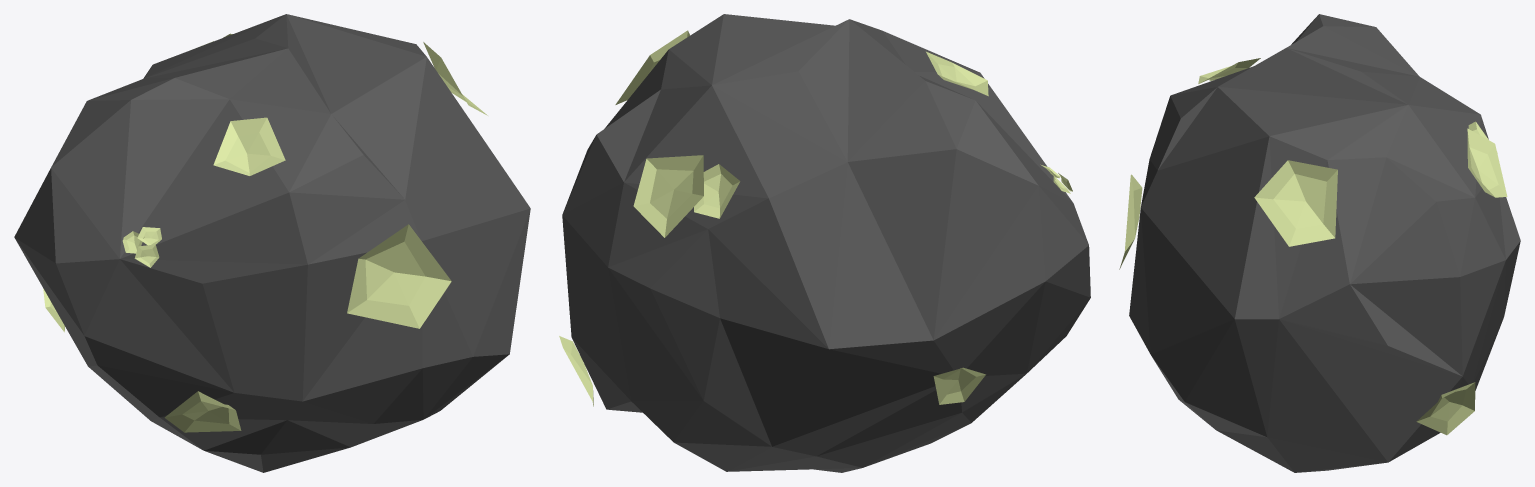
Rendered from SM_Buisson_Fleur.fbx.
3 renders of one model, left to right at view 1: azimuth 30°, elevation 25°; view 2: azimuth 150°, elevation 25°; view 3: azimuth 270°, elevation 25°, orthographic. The views are drawn at different scales.
Visible parts, largest first — view 1: SM_Buisson_Fleur; view 2: SM_Buisson_Fleur; view 3: SM_Buisson_Fleur.
Boxes of the visible parts, left/top/right/bottom form: SM_Buisson_Fleur: left=14, top=14, right=530, bottom=472; SM_Buisson_Fleur: left=559, top=14, right=1090, bottom=472; SM_Buisson_Fleur: left=1119, top=14, right=1520, bottom=472.
Bounding box in the file's own units: 1.33 × 1.16 × 1.12.
